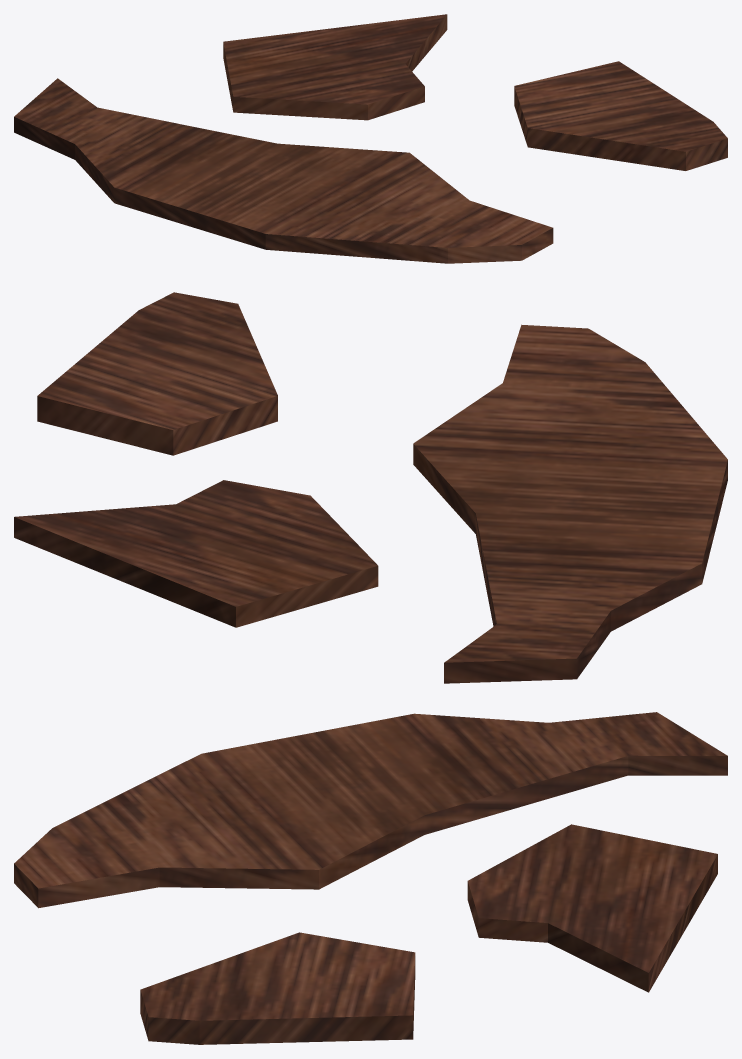
Rendered from SM_Rubbish_03.fbx.
3 renders of one model, top to bottom at view 1: azimuth 30°, elevation 25°; view 2: azimuth 150°, elevation 25°; view 3: azimuth 270°, elevation 25°, orthographic. The views are drawn at different scales.
Visible parts, largest first — view 1: SM_Rubbish_03; view 2: SM_Rubbish_03; view 3: SM_Rubbish_03.
Part boxes in pixels (x1,y1,x2,y2): SM_Rubbish_03: (14, 14, 727, 263); SM_Rubbish_03: (14, 292, 727, 683); SM_Rubbish_03: (14, 712, 727, 1044).
Bounding box in the file's own units: 69.09 × 2.48 × 66.57.
